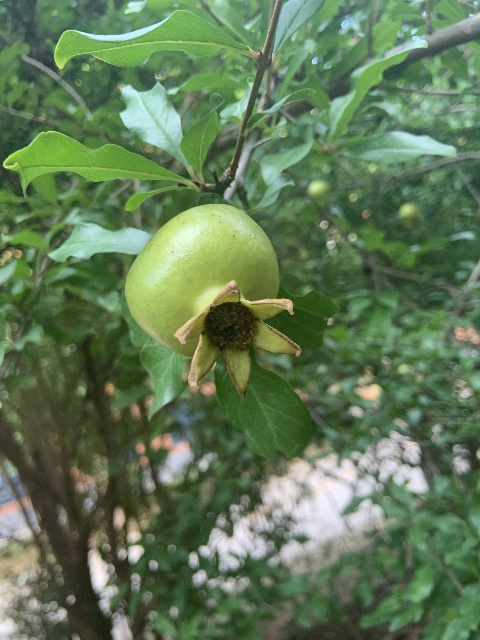mid-growth: (124, 203, 301, 399)
